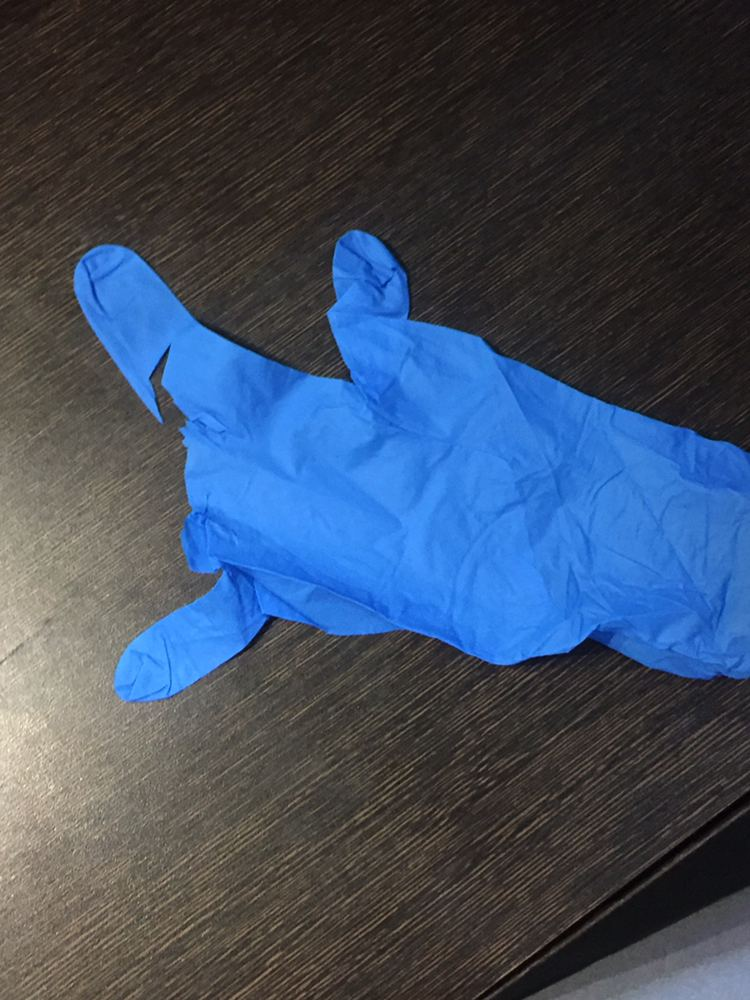defected: (29, 193, 750, 743)
